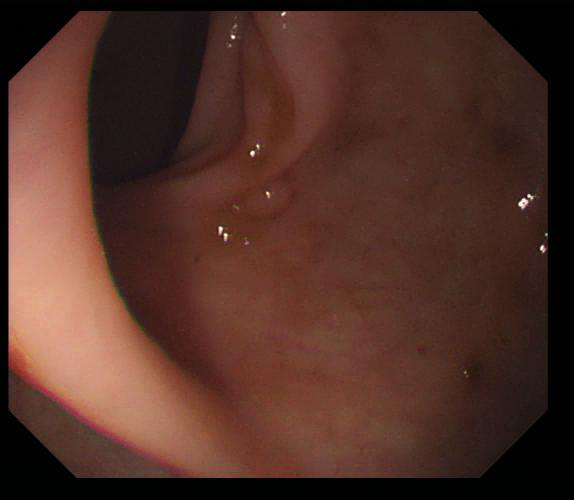polyp: (243, 180, 296, 218)
